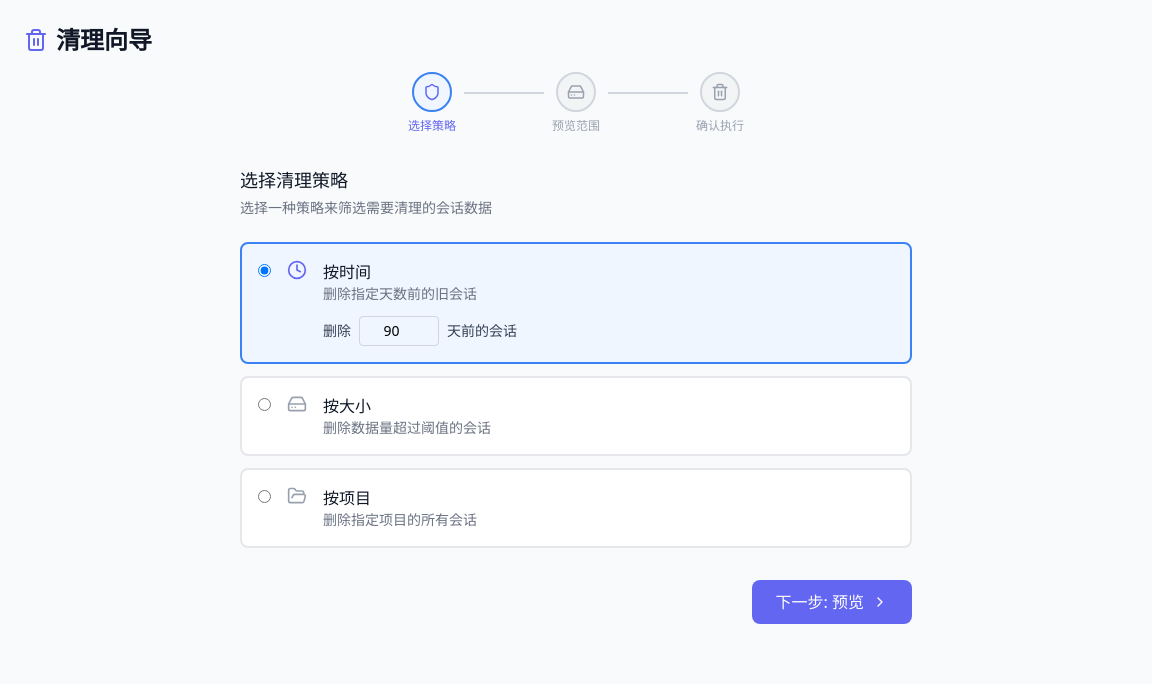
Test case: Cleanup 预览的子会话锁定与父子联动（P2-2） › 取消父行：summary 扣掉父行及其整棵子树，子行改显示「随父会话保留」
Step 1. Click the button "下一步: 预览" → [832, 602], box [752,580,912,624]
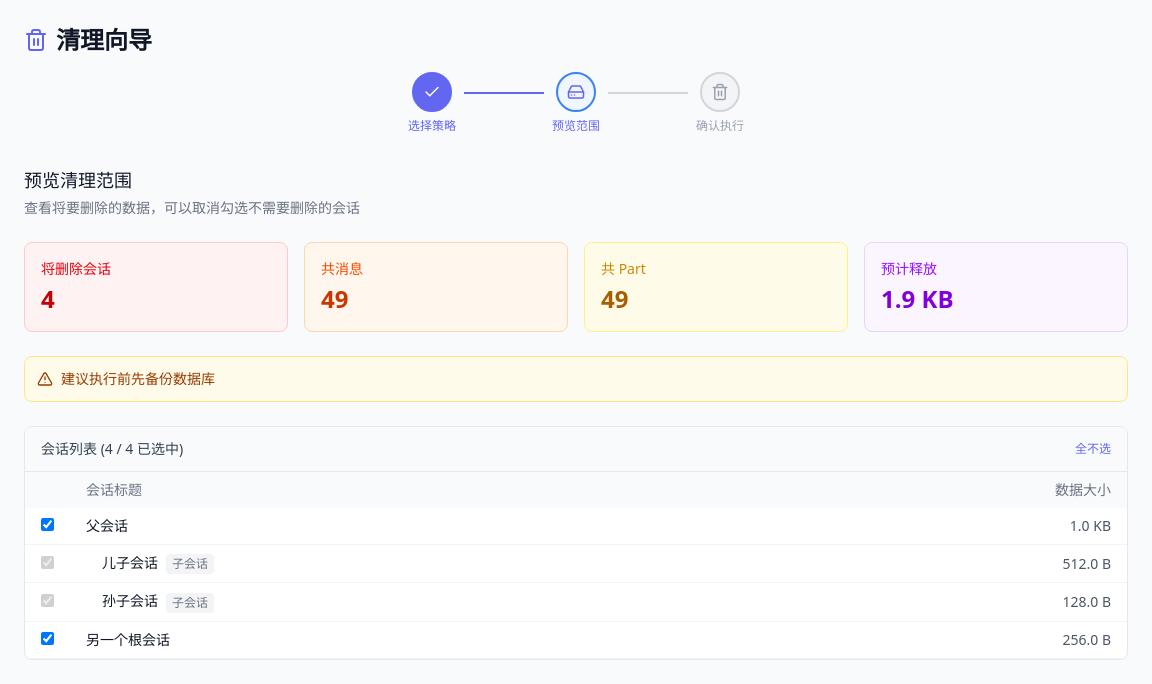
Expected: the heading "预览清理范围" is shown, [24,168,132,192]
Expected: the checkbox next to "父会话" is checked
Step 2. Click the checkbox next to "父会话" → [48, 524], box [41,518,54,531]
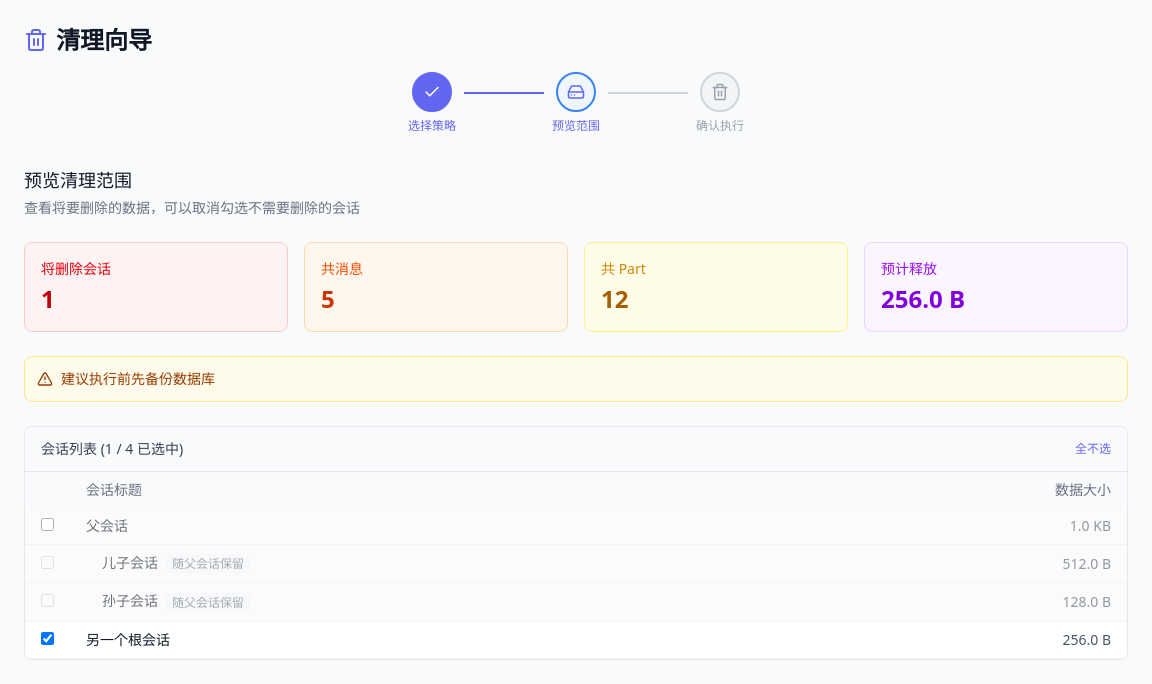
Expected: the checkbox named "随父会话一起保留" is disabled, [41,556,54,569]
Expected: the text "随父会话保留" is shown 2 times, [166,554,250,574]; [166,592,250,612]
Expected: the checkbox named "随父会话一起保留" is not checked, [41,556,54,569]
